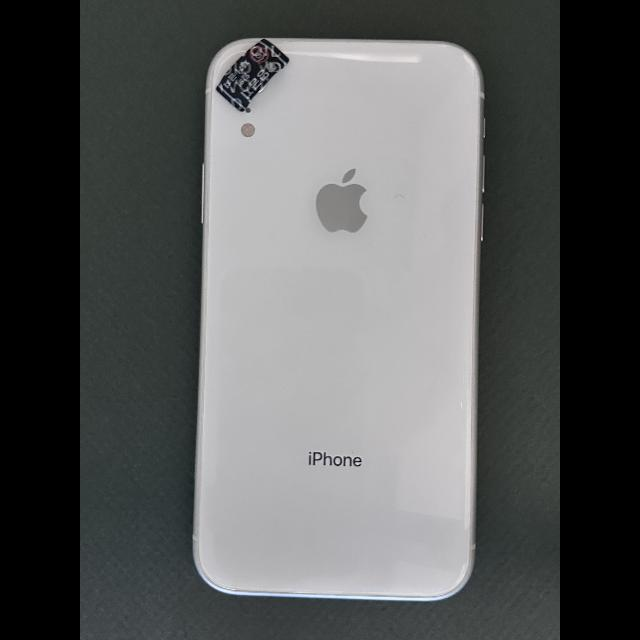phone: (191, 37, 485, 602)
sticker: (216, 39, 290, 112)
